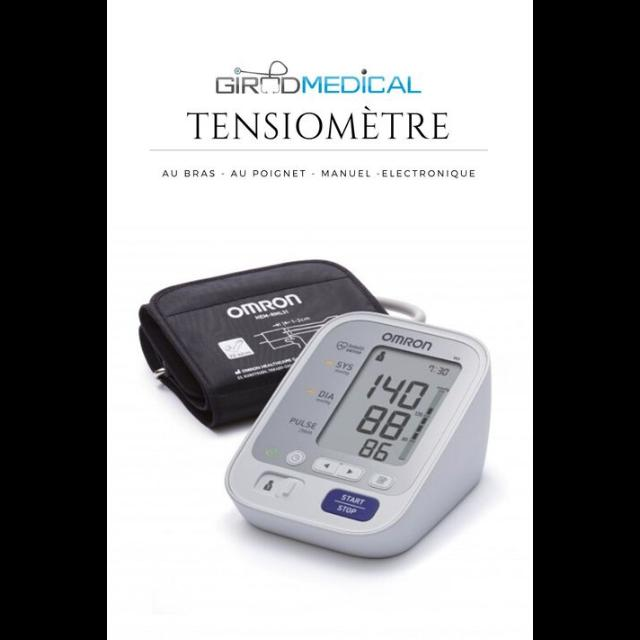Blood-Pressure-Monitor: (226, 312, 491, 557)
